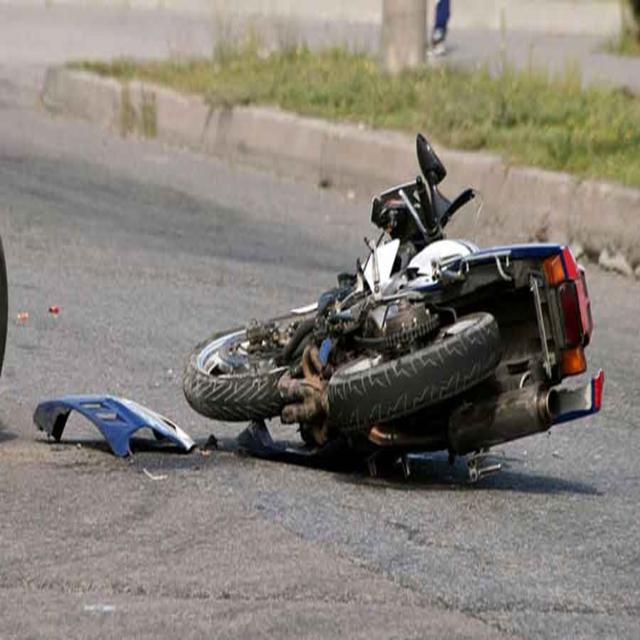accident: (182, 135, 604, 484)
